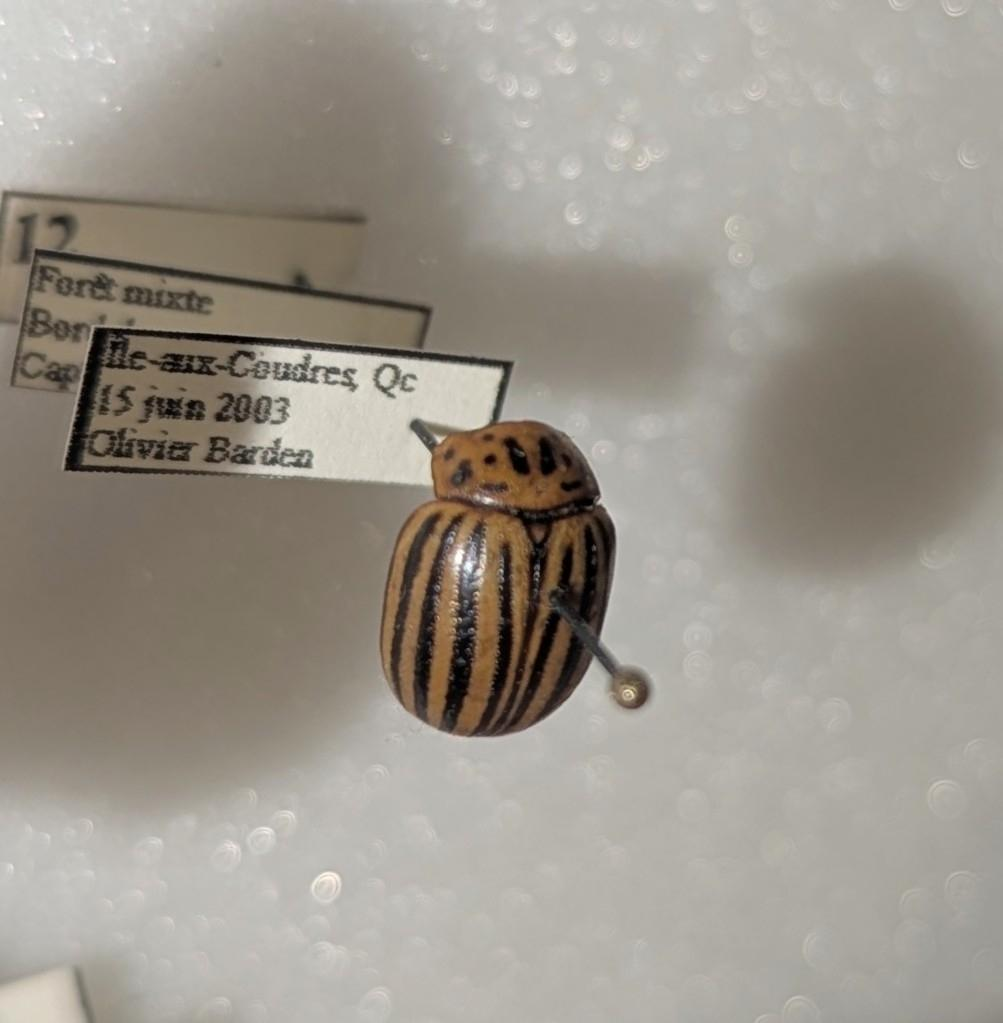potato_beetle: (291, 336, 708, 790)
